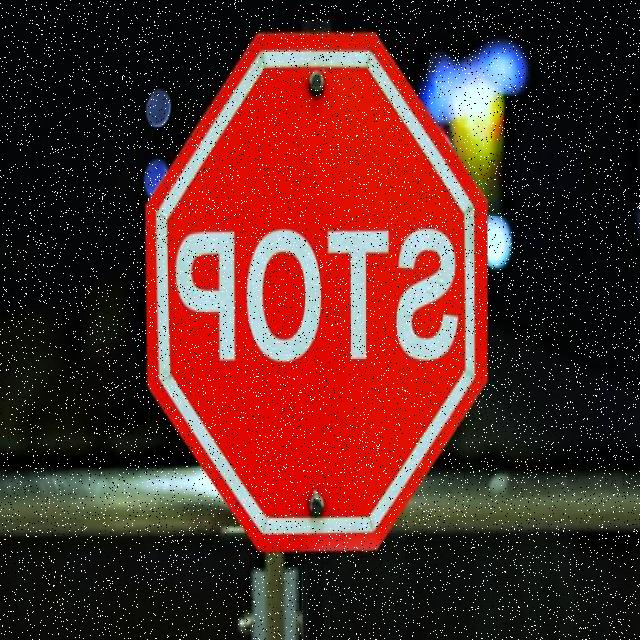stop: (146, 27, 497, 560)
